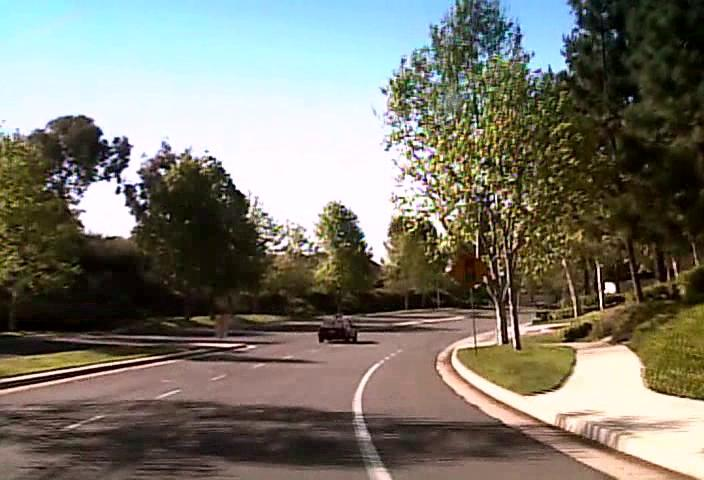signalAhead: (446, 249, 490, 291)
